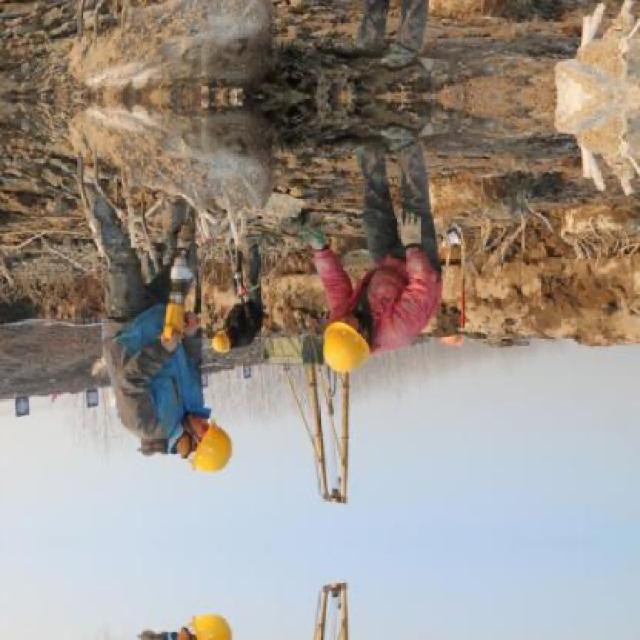con casco: (316, 290, 422, 386), (156, 392, 252, 486)
